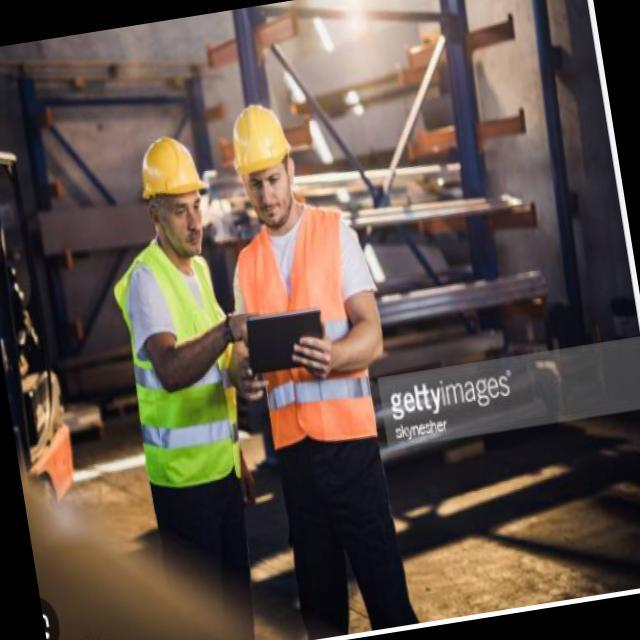hard_hat: (224, 96, 308, 244), (131, 131, 216, 263)
vest: (208, 195, 393, 468), (101, 229, 256, 502)
